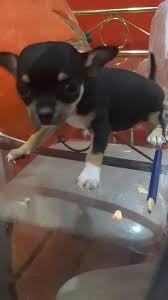chihuahua: (1, 34, 168, 186)
